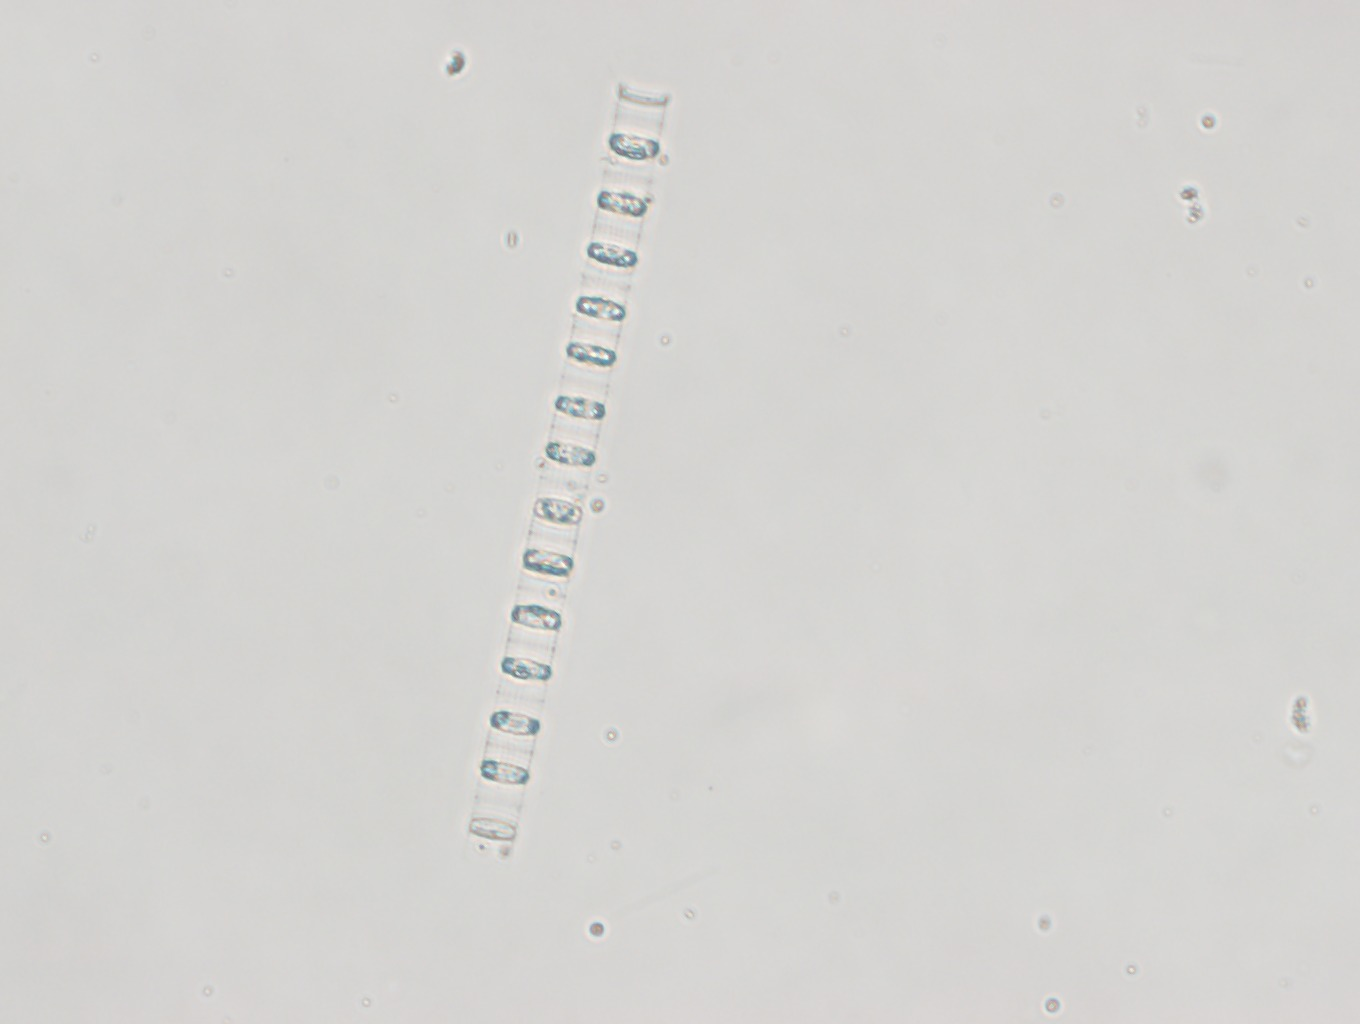skeletonema: (464, 77, 670, 866)
